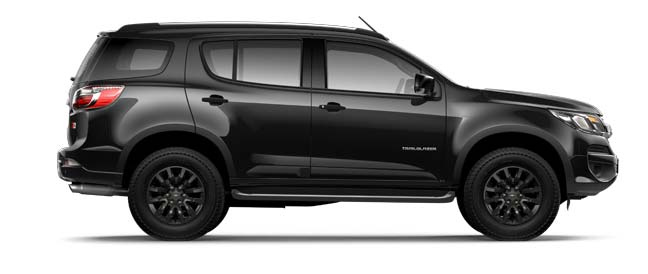pickup: (57, 20, 620, 238)
